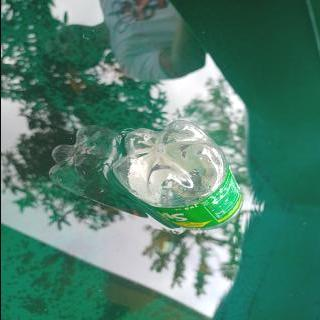bottle: (106, 114, 250, 233)
